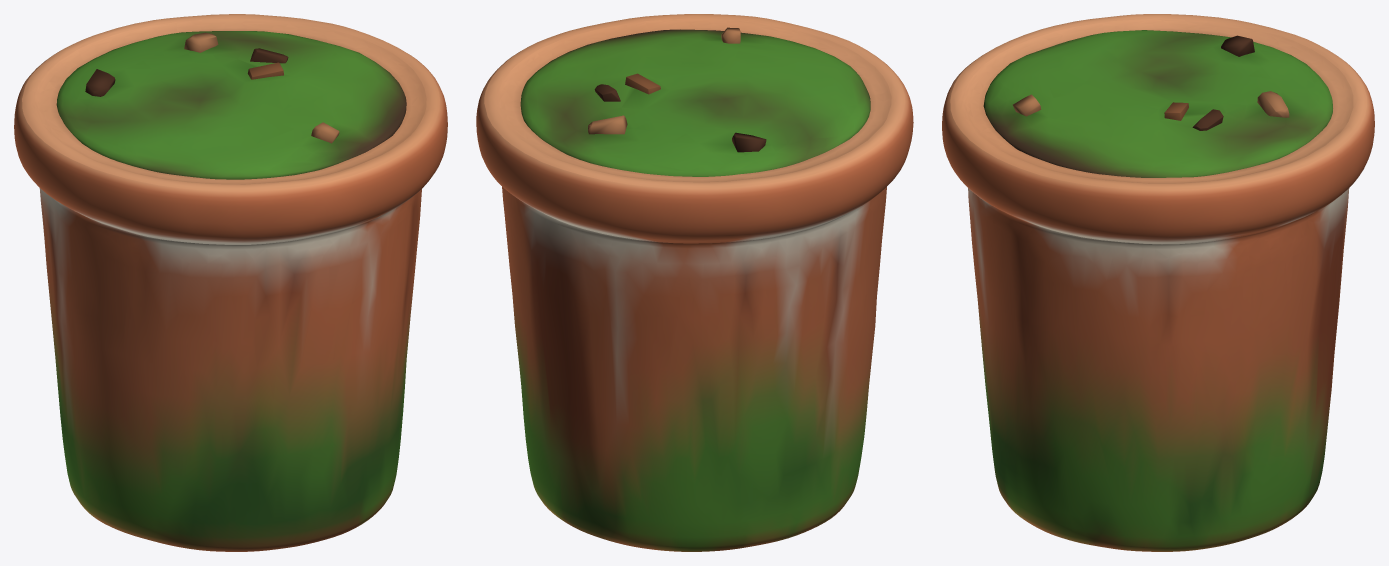
The model's file is canopy_pot_c.glb.
The picture shows the model from 3 angles, left to right: view 1: azimuth 30°, elevation 25°; view 2: azimuth 150°, elevation 25°; view 3: azimuth 270°, elevation 25°; orthographic projection.
Parts seen in each view (by area): view 1: canopy_pot_c; view 2: canopy_pot_c; view 3: canopy_pot_c.
Boxes of the visible parts, <box> form: canopy_pot_c: <box>14,14,447,551</box>; canopy_pot_c: <box>476,14,913,551</box>; canopy_pot_c: <box>942,14,1374,551</box>.
Bounding box in the file's own units: 10.06 × 10.48 × 10.02.
